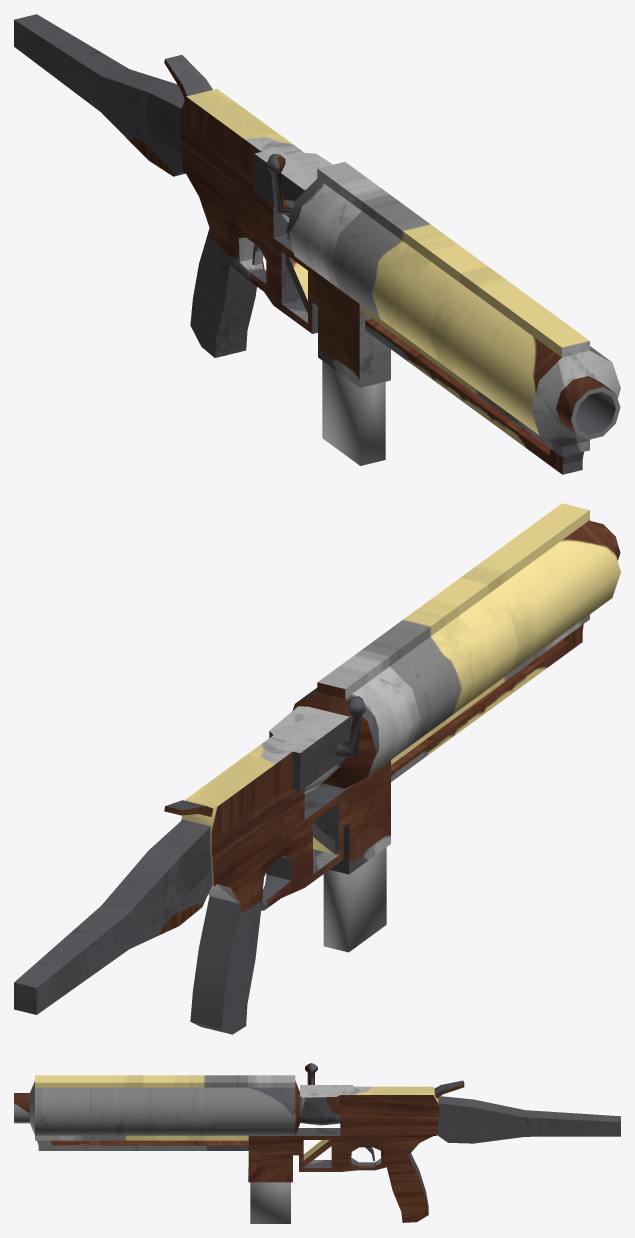
File: AssaultRifleSmallMag.fbx
The picture shows the model from 3 angles, top to bottom: view 1: azimuth 30°, elevation 25°; view 2: azimuth 150°, elevation 25°; view 3: azimuth 270°, elevation 25°; orthographic projection. The views are drawn at different scales.
Parts seen in each view (by area): view 1: MachineGun; view 2: MachineGun; view 3: MachineGun.
Boxes of the visible parts, <box> form: MachineGun: <box>14,14,620,474</box>; MachineGun: <box>14,503,620,1034</box>; MachineGun: <box>14,1063,620,1223</box>.
Size of the model in its own units: 8.15 by 85.2 by 22.65.
